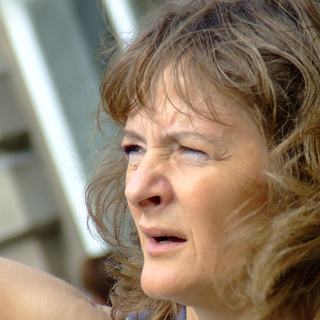eye: (166, 140, 214, 163), (117, 138, 156, 163)
